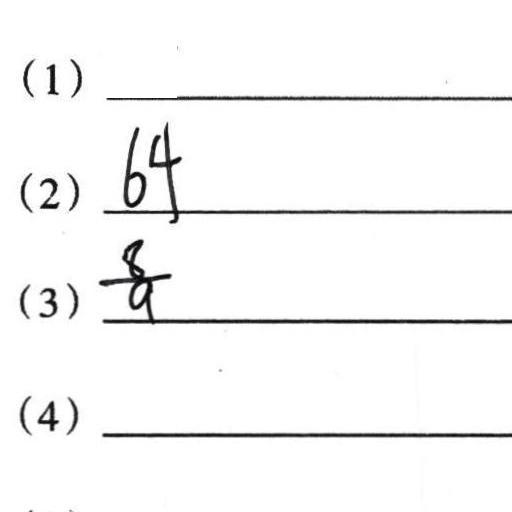ans: (113, 116, 184, 220), (97, 236, 172, 318)
